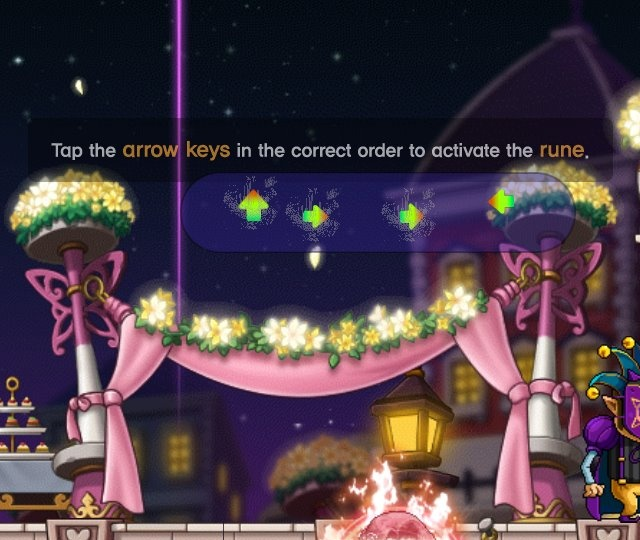rune_box: (172, 165, 586, 265)
